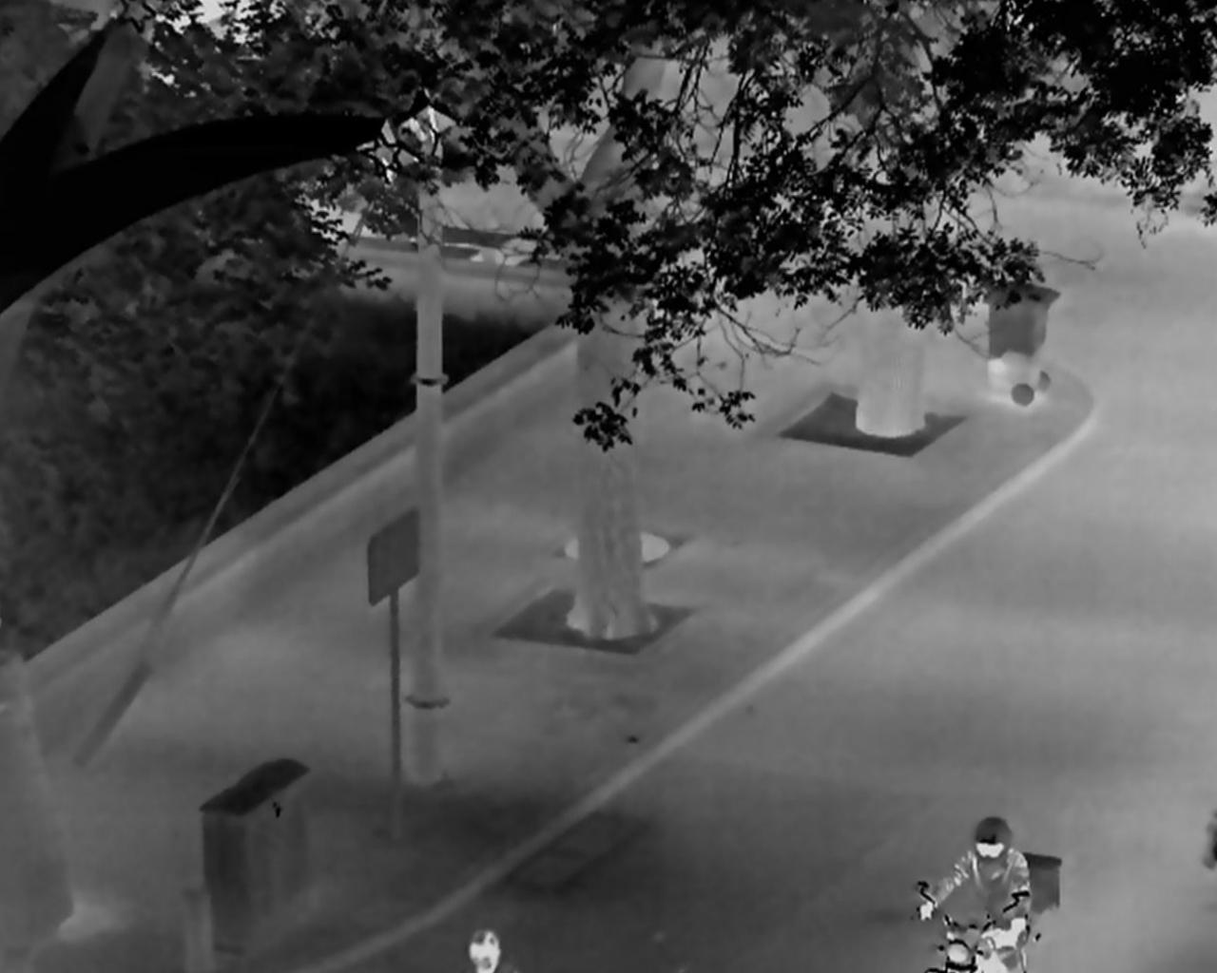person: (915, 815, 1033, 973), (466, 927, 518, 973)
